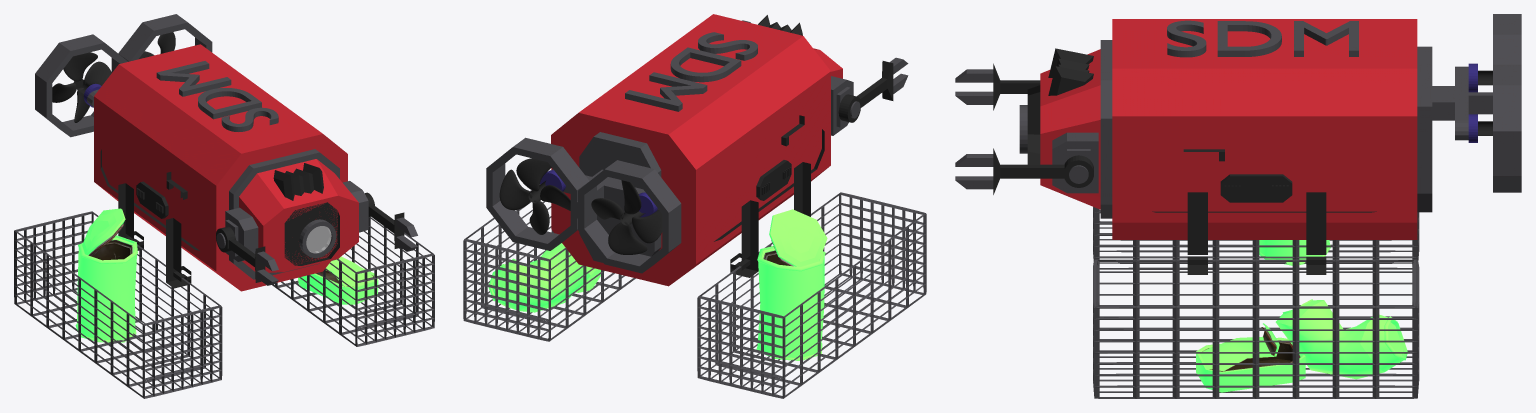
File: collector_manual_with_can.glb
3 views of the same model, side by side, from view 1: azimuth 30°, elevation 25°; view 2: azimuth 150°, elevation 25°; view 3: azimuth 270°, elevation 25° (orthographic). The views are drawn at different scales.
Parts seen in each view (by area): view 1: main_body, neck, Can_02_GEO.006, Can_02_GEO, camera_lens; view 2: main_body, neck, Can_02_GEO.006, Circle.002; view 3: main_body, neck, Can_02_GEO.006, Can_02_GEO, Circle.002.
Part boxes in pixels (left/top/right/bottom): main_body: left=52, top=32, right=404, bottom=291; neck: left=14, top=14, right=434, bottom=398; Can_02_GEO.006: left=75, top=208, right=378, bottom=342; Can_02_GEO: left=88, top=224, right=373, bottom=286; camera_lens: left=306, top=226, right=331, bottom=253; main_body: left=499, top=14, right=893, bottom=286; neck: left=463, top=20, right=926, bottom=398; Can_02_GEO.006: left=488, top=209, right=827, bottom=360; Circle.002: left=540, top=170, right=657, bottom=217; main_body: left=993, top=19, right=1492, bottom=274; neck: left=955, top=14, right=1521, bottom=398; Can_02_GEO.006: left=1196, top=240, right=1407, bottom=392; Can_02_GEO: left=1202, top=327, right=1300, bottom=371; Circle.002: left=1468, top=63, right=1477, bottom=142.
Size of the model in its own units: 4.09 by 2.96 by 5.53.
Materials: 6 (6 with a texture image).
